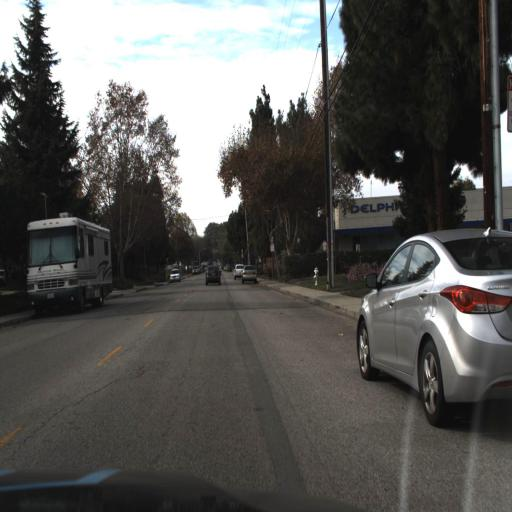car: (355, 227, 512, 428), (203, 259, 225, 291), (237, 260, 258, 284), (167, 265, 183, 283), (234, 259, 245, 281)
truck: (21, 207, 114, 314)
